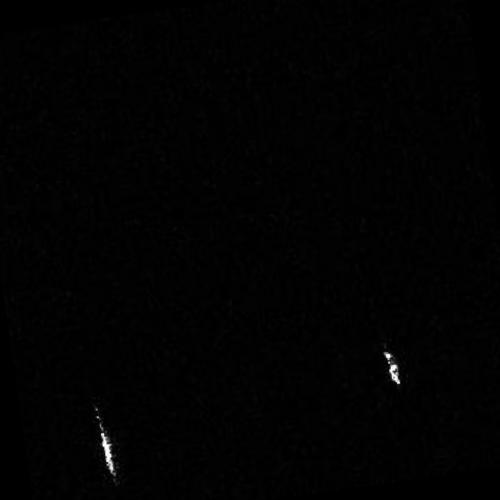ship: (98, 420, 119, 481), (382, 349, 402, 387)
